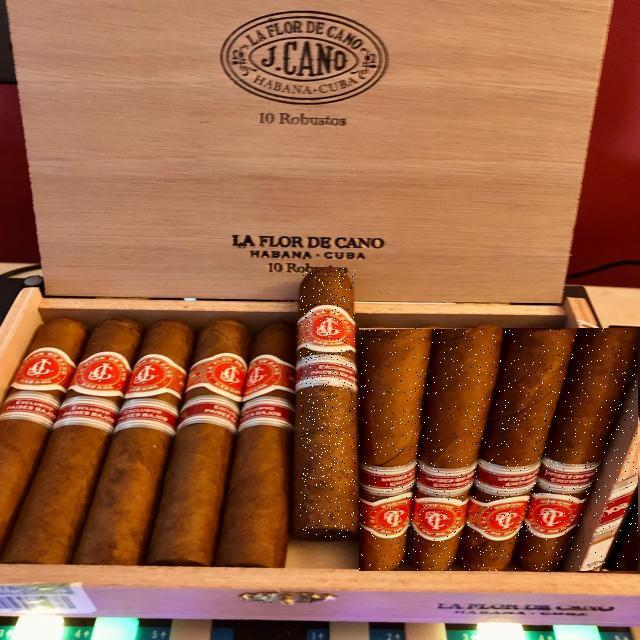smoking: (359, 328, 638, 571), (300, 268, 355, 537)
